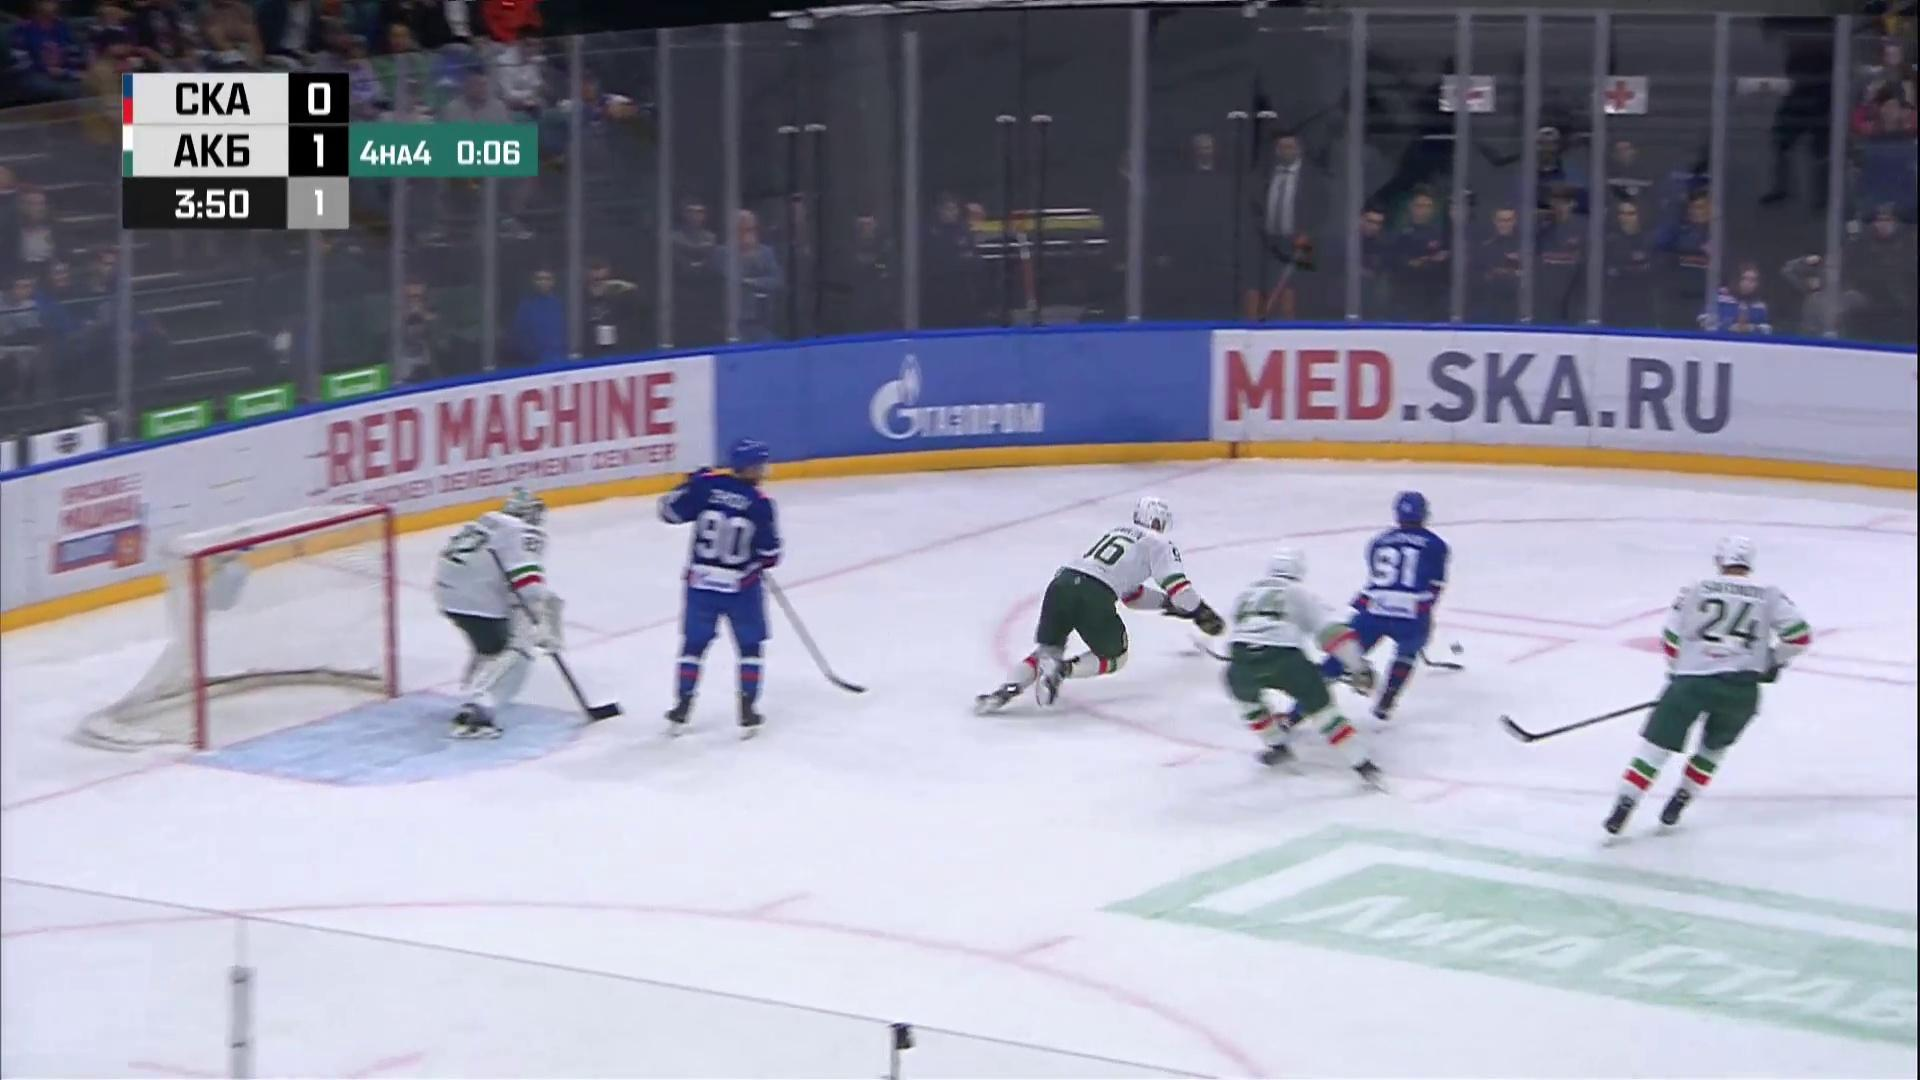ball: (1451, 642, 1464, 655)
